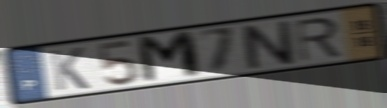5: (95, 37, 141, 88)
7: (195, 26, 238, 76)
K: (47, 46, 92, 93)
M: (134, 29, 205, 86)
N: (238, 19, 299, 72)
R: (292, 15, 345, 64)
